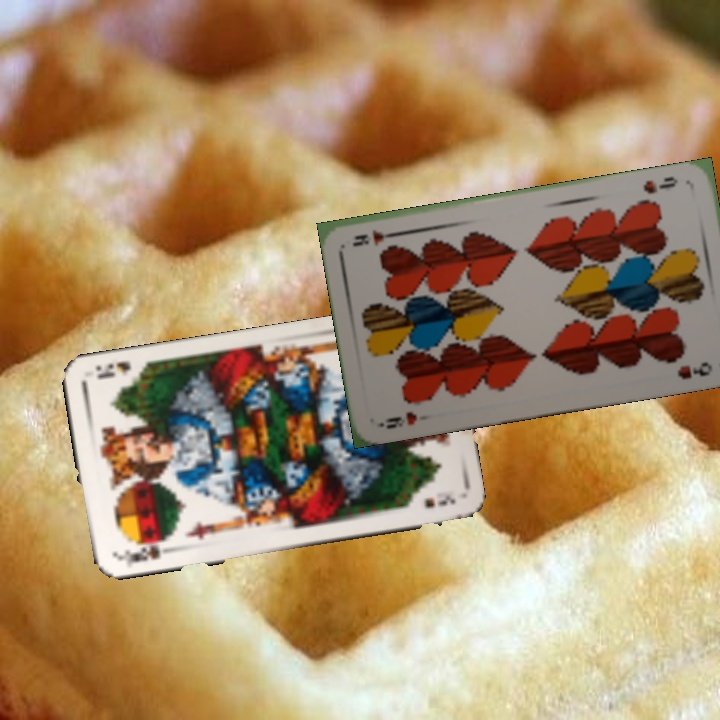H9: (375, 407, 420, 431), (639, 172, 681, 197)
SK: (114, 536, 174, 570)
